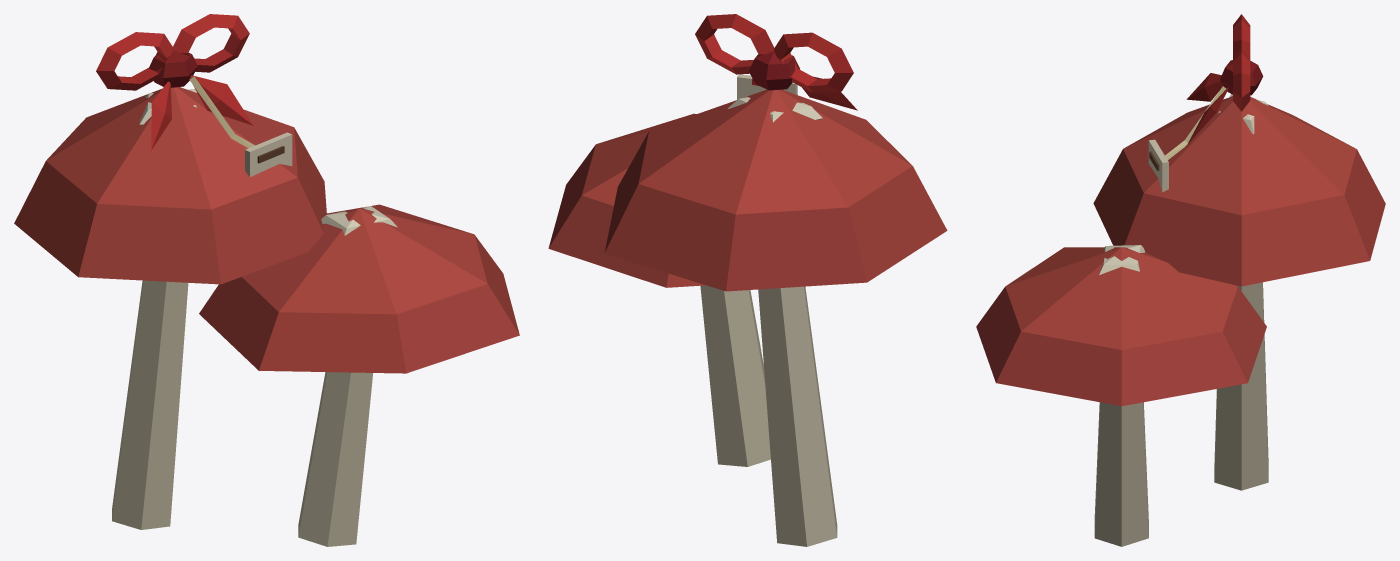
File: quest_toadstool.glb
3 renders of one model, left to right at view 1: azimuth 30°, elevation 25°; view 2: azimuth 150°, elevation 25°; view 3: azimuth 270°, elevation 25°, orthographic. The views are drawn at different scales.
Parts seen in each view (by area): view 1: quest_toadstool; view 2: quest_toadstool; view 3: quest_toadstool.
Part boxes in pixels (<box>): quest_toadstool: <box>14,14,519,546</box>; quest_toadstool: <box>548,14,947,546</box>; quest_toadstool: <box>976,14,1385,546</box>.
Size of the model in its own units: 0.3869 by 0.4573 by 0.3713.
